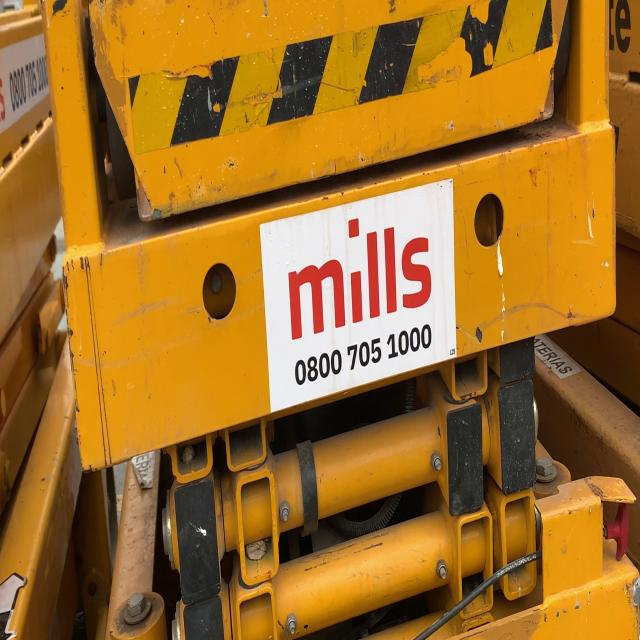Adesivos: (255, 172, 465, 419)
